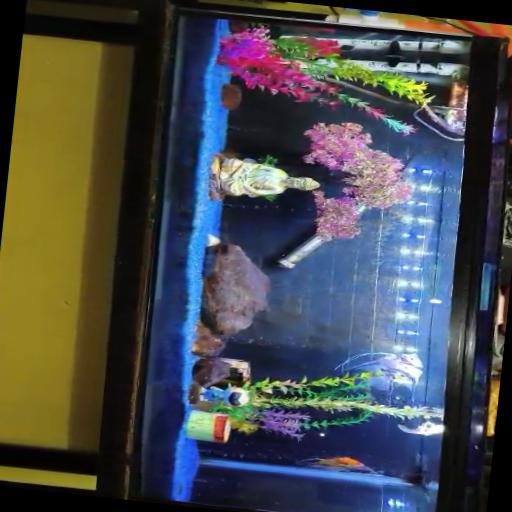Fish: (333, 351, 422, 404), (333, 351, 422, 399), (298, 456, 380, 473), (397, 416, 443, 435)
